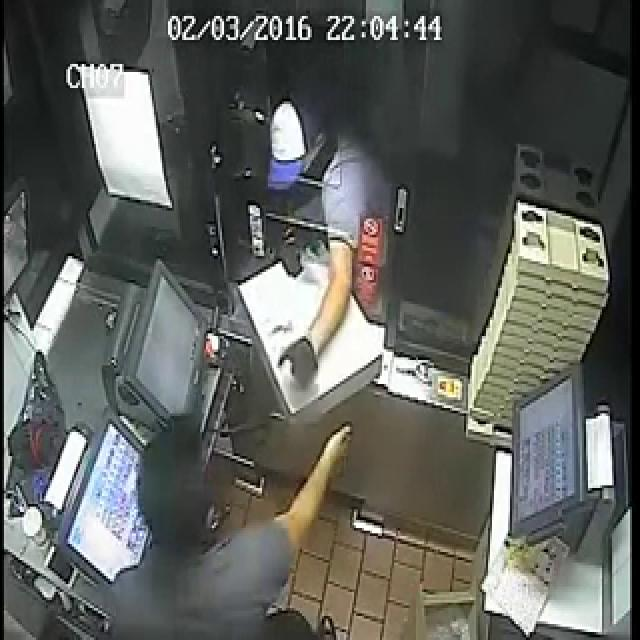burglary: (129, 67, 473, 541)
